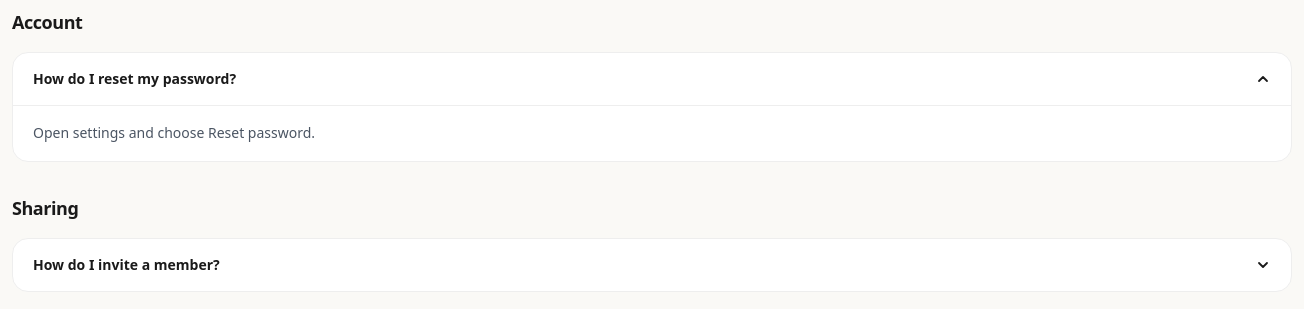
Test case: FaqAccordion › expands the answer when the question is clicked
Click the button "How do I invite a member?".
click(126, 264)  # box x1=13 y1=239 x2=1291 y2=291
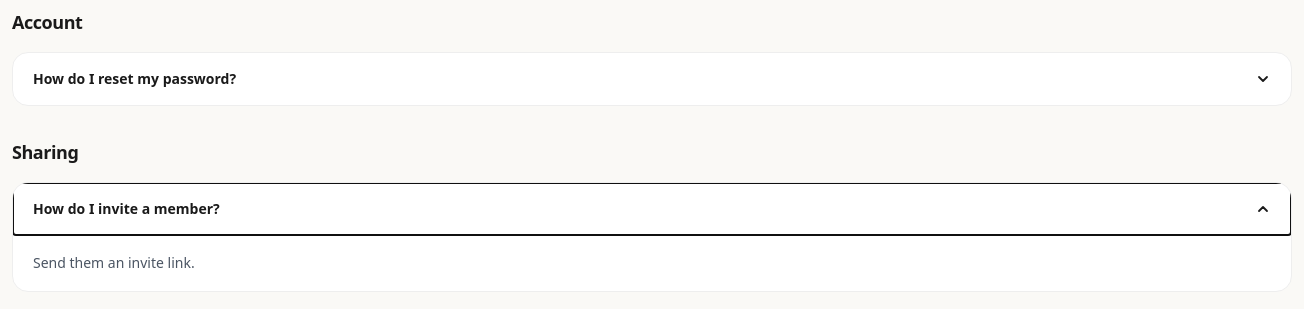
Expected: the button "How do I invite a member?" is expanded, x1=13 y1=183 x2=1291 y2=235
Expected: the text "Send them an invite link." is shown, x1=33 y1=253 x2=195 y2=272
